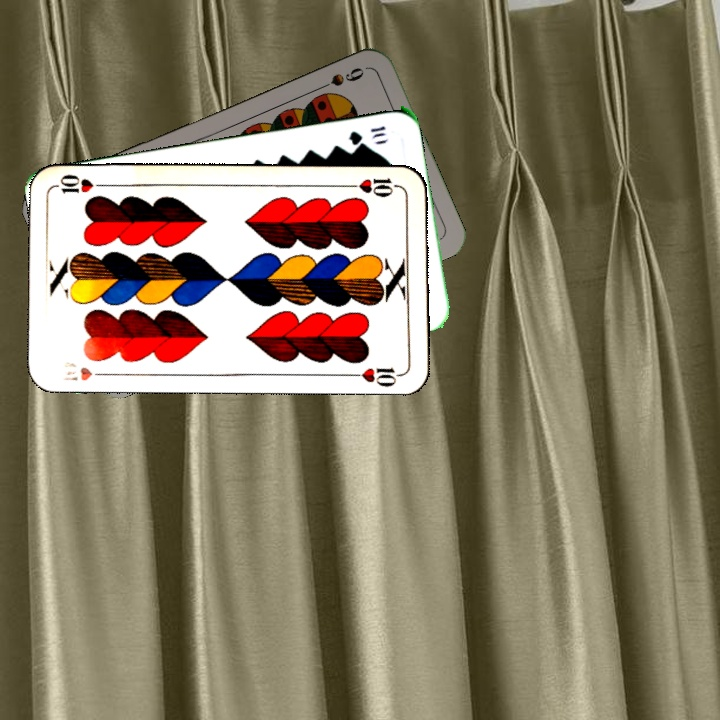G10: (345, 122, 389, 148)
H10: (344, 173, 403, 199), (59, 363, 112, 383)
S9: (311, 63, 367, 94)
